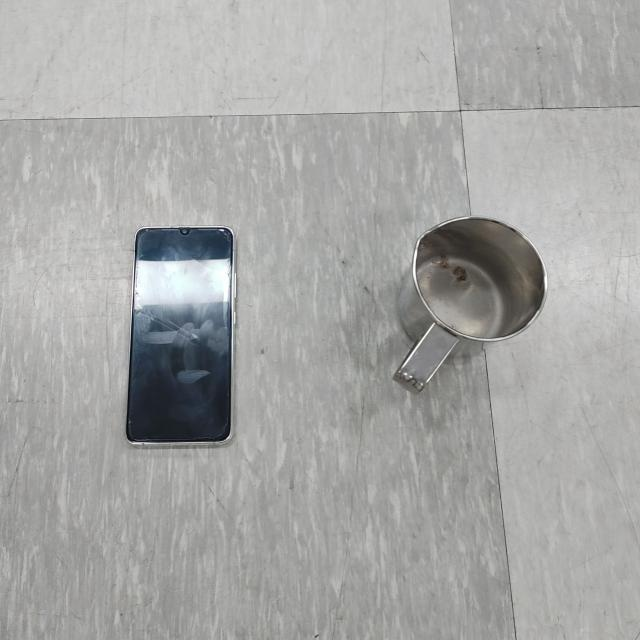cup: (391, 213, 547, 403)
phone: (123, 223, 235, 449)
